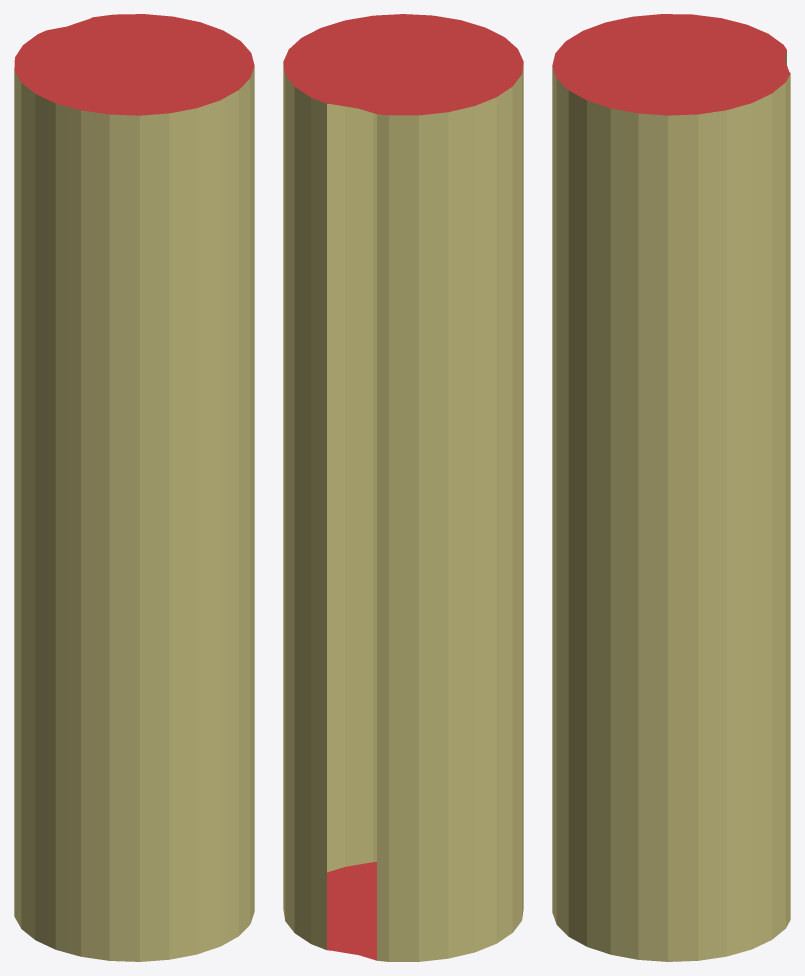
3 renders of one model, left to right at view 1: azimuth 30°, elevation 25°; view 2: azimuth 150°, elevation 25°; view 3: azimuth 270°, elevation 25°, orthographic.
Size of the model in its own units: 2.6 by 2.58 by 10.12.
